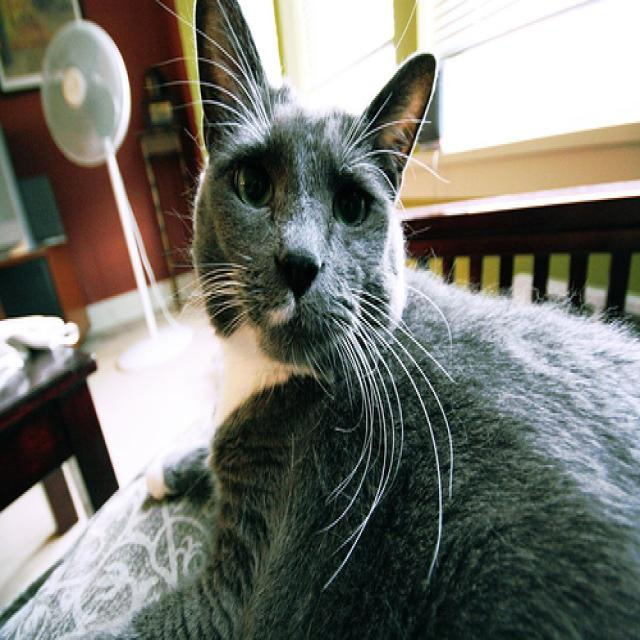cat: (120, 1, 640, 639)
